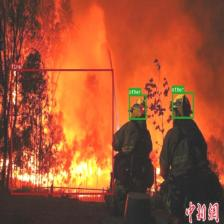fire: (11, 69, 113, 194)
